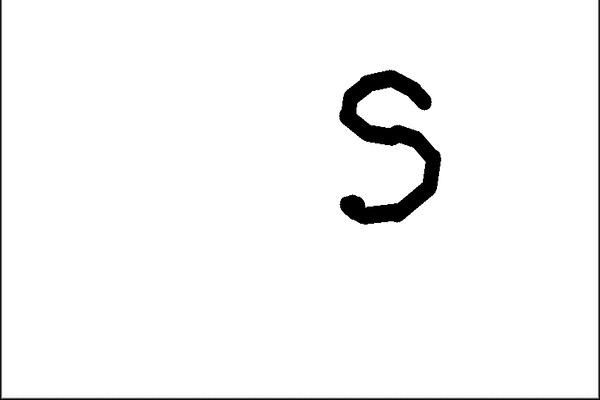S: (327, 64, 447, 227)
